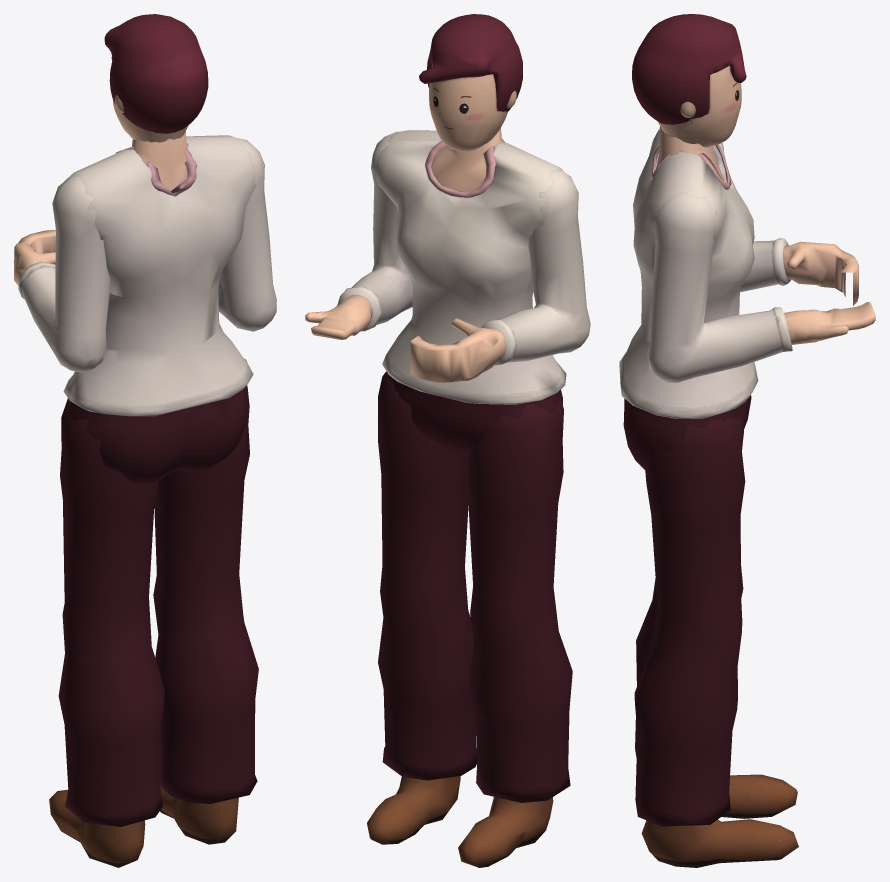
Rendered from npc_pixie.glb.
3 views of the same model, side by side, from view 1: azimuth 30°, elevation 25°; view 2: azimuth 150°, elevation 25°; view 3: azimuth 270°, elevation 25° (orthographic). The views are drawn at different scales.
Visible parts, largest first — view 1: Torso_Top, LegL_Pants, LegR_Pants, ArmL_Sleeve, Head_Hair, Torso_Hips, ArmR_Sleeve, LegL_Shoe, LegR_Shoe, Torso_Skin, ArmL_Skin, Head_Skin (+1 smaller); view 2: LegL_Pants, LegR_Pants, Torso_Top, ArmL_Sleeve, Head_Hair, ArmR_Sleeve, Head_Skin, Torso_Hips, LegL_Shoe, ArmL_Skin, LegR_Shoe, Torso_Skin (+2 smaller); view 3: LegR_Pants, Torso_Top, ArmR_Sleeve, Head_Hair, LegR_Shoe, Head_Skin, ArmL_Skin, Torso_Hips, LegL_Shoe, ArmR_Skin, ArmL_Sleeve, LegL_Pants (+2 smaller).
Boxes of the visible parts, bbox=[...] form: Torso_Top: bbox=[63, 135, 256, 416]; LegL_Pants: bbox=[58, 398, 164, 826]; LegR_Pants: bbox=[153, 404, 258, 803]; ArmL_Sleeve: bbox=[18, 176, 110, 372]; Head_Hair: bbox=[104, 14, 208, 133]; Torso_Hips: bbox=[69, 385, 249, 483]; ArmR_Sleeve: bbox=[218, 138, 276, 331]; LegL_Shoe: bbox=[49, 789, 145, 867]; LegR_Shoe: bbox=[160, 783, 238, 844]; Torso_Skin: bbox=[132, 131, 188, 191]; ArmL_Skin: bbox=[14, 229, 55, 285]; Head_Skin: bbox=[112, 95, 188, 142]; LegL_Pants: bbox=[466, 396, 572, 802]; LegR_Pants: bbox=[378, 371, 476, 780]; Torso_Top: bbox=[375, 130, 566, 404]; ArmL_Sleeve: bbox=[481, 169, 590, 365]; Head_Hair: bbox=[419, 14, 522, 111]; ArmR_Sleeve: bbox=[337, 131, 412, 331]; Head_Skin: bbox=[429, 64, 516, 151]; Torso_Hips: bbox=[389, 376, 562, 455]; LegL_Shoe: bbox=[458, 797, 553, 867]; ArmL_Skin: bbox=[410, 318, 506, 382]; LegR_Shoe: bbox=[367, 776, 460, 844]; Torso_Skin: bbox=[431, 128, 505, 191]; LegR_Pants: bbox=[634, 417, 745, 826]; Torso_Top: bbox=[619, 129, 758, 418]; ArmR_Sleeve: bbox=[647, 192, 792, 383]; Head_Hair: bbox=[632, 14, 746, 124]; LegR_Shoe: bbox=[641, 819, 798, 867]; Head_Skin: bbox=[658, 65, 741, 147]; ArmL_Skin: bbox=[783, 241, 858, 305]; Torso_Hips: bbox=[623, 395, 751, 469]; LegL_Shoe: bbox=[721, 774, 797, 818]; ArmR_Skin: bbox=[784, 302, 875, 344]; ArmL_Sleeve: bbox=[740, 238, 791, 292]; LegL_Pants: bbox=[635, 430, 743, 757].
Size of the model in its own units: 0.4537 by 1.65 by 0.4689.
Materials: 5 (5 with a texture image).
